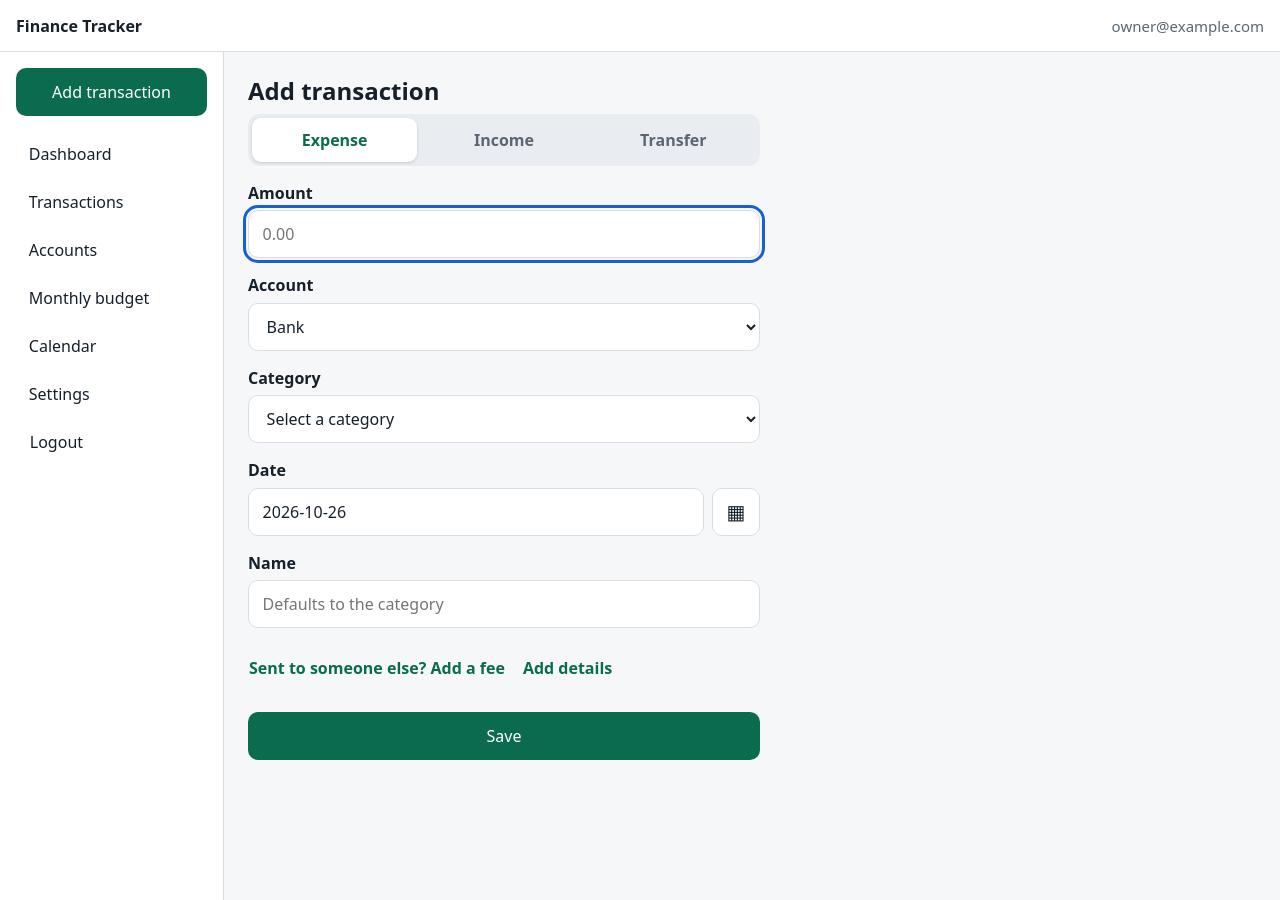
validation › only lets two decimals be typed
The width and height of the screenshot is (1280, 900).
Check: the dropdown labelled "Account" shows "Bank", box [248,303,760,351]
Type "12.3456" into the field labelled "Amount" at (504, 234), box [248,210,760,258]
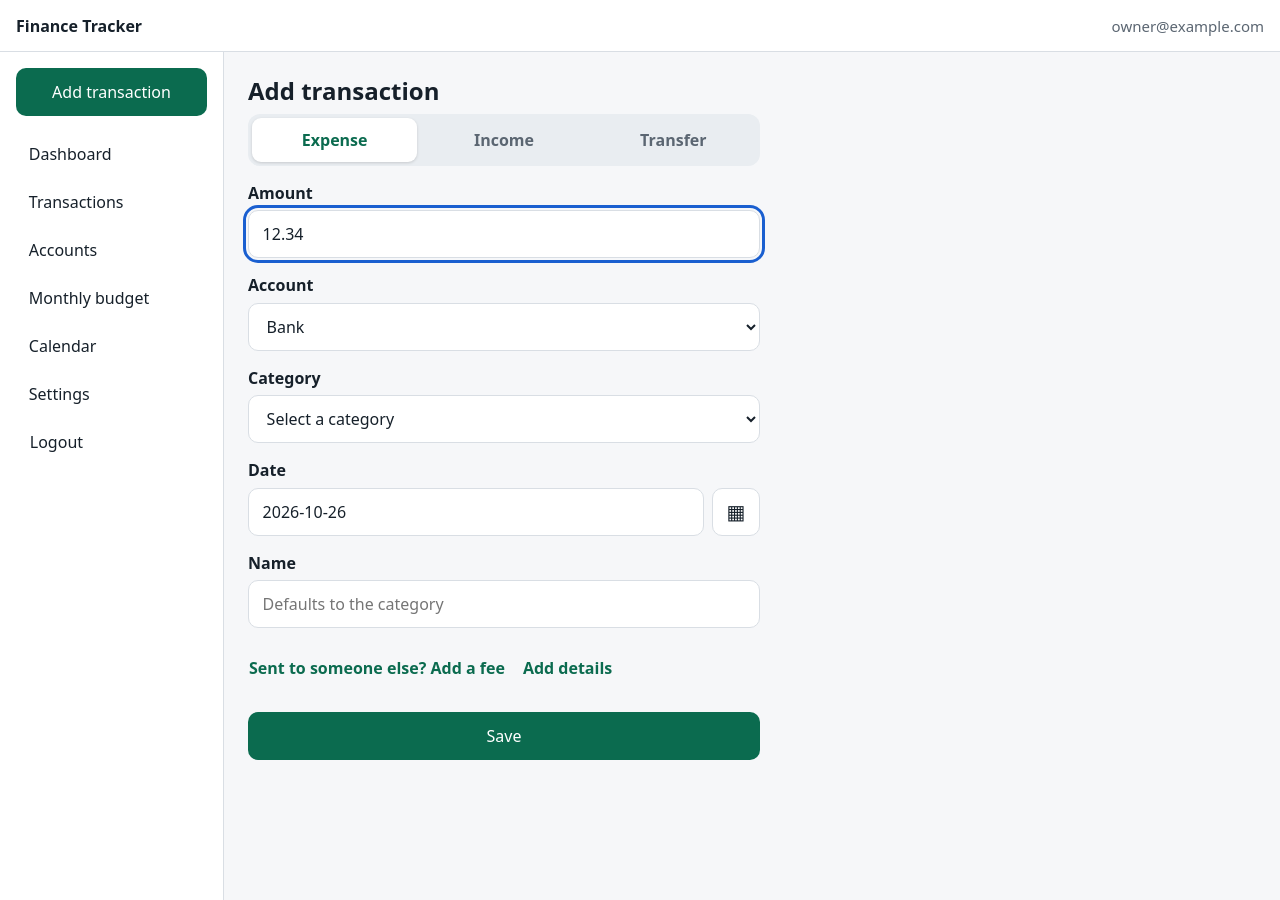
Check: the field labelled "Amount" holds "12.34", box [248,210,760,258]
